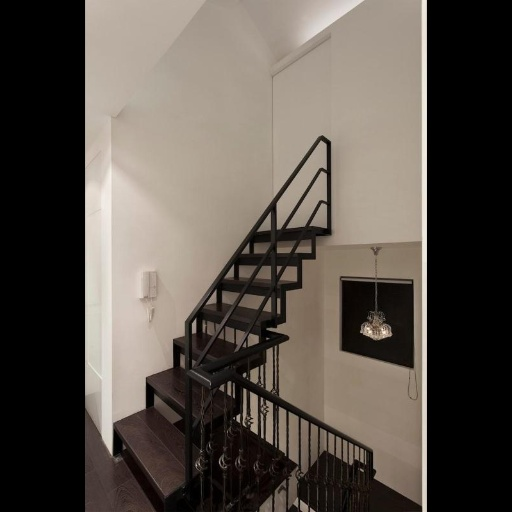Stairs: (115, 226, 326, 512)
